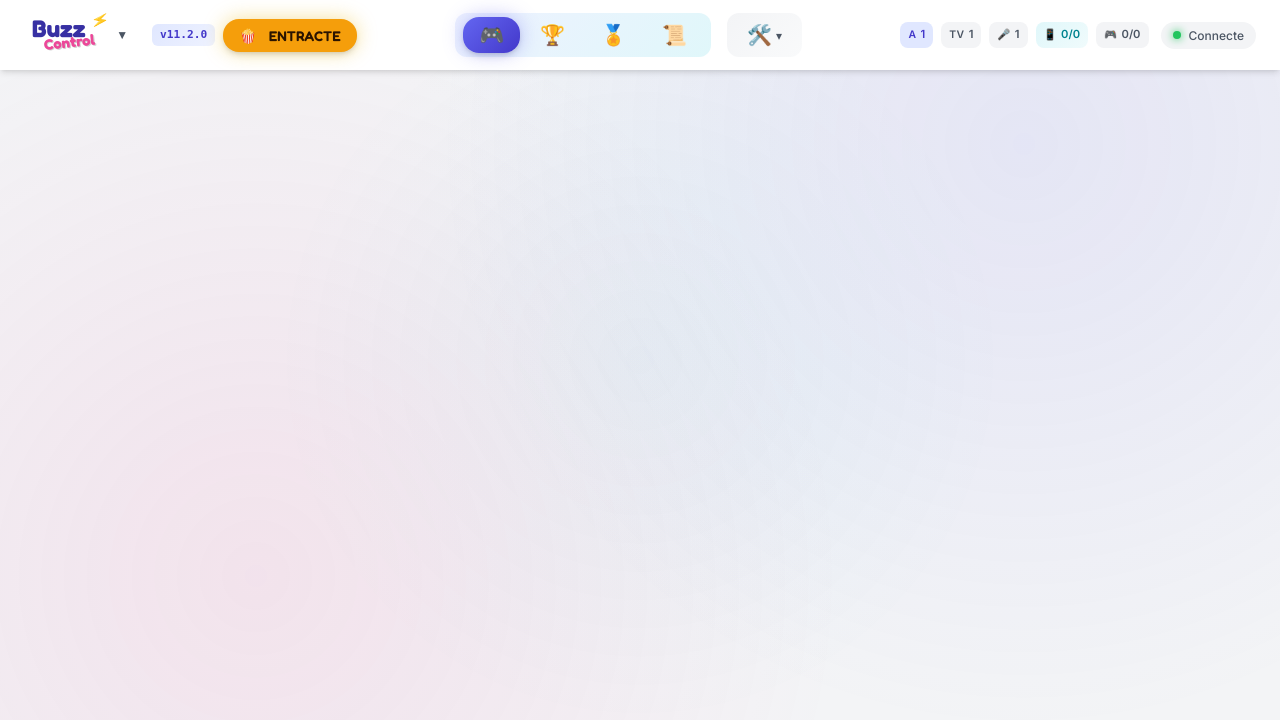
Test: Entrée « Lancer la partie » du menu Préparation (#253) › Critical — écran étroit : absente tant que le menu est fermé ; ouverte, elle suit Backstage et précède la section Interface
expect the text "Lancer la partie" is not shown: met
Click the button named "Préparation": (764, 35) [735,17,794,53]
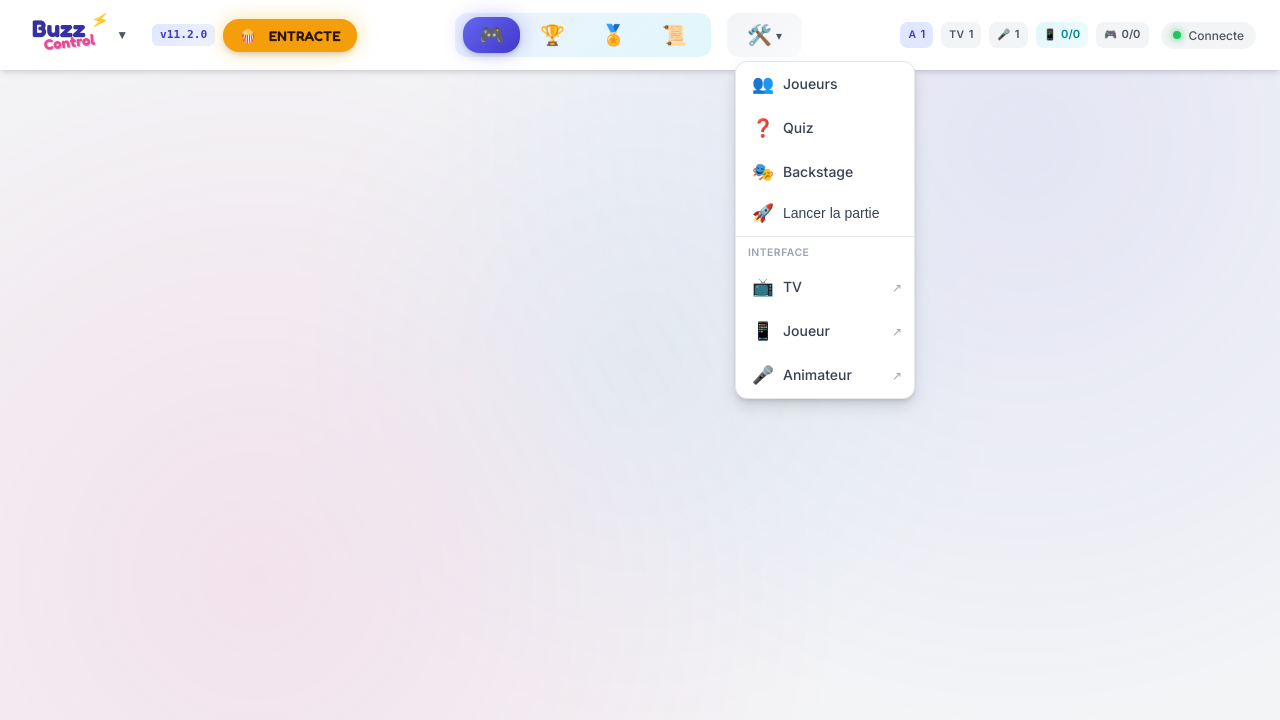
expect the button "🚀 Lancer la partie" is shown: met, box [736,194,914,232]
